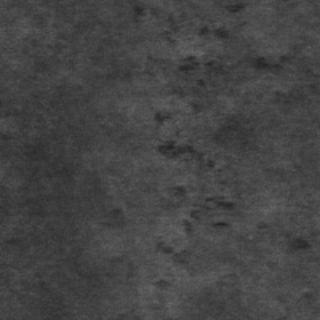rolled pit: (152, 49, 236, 260)
